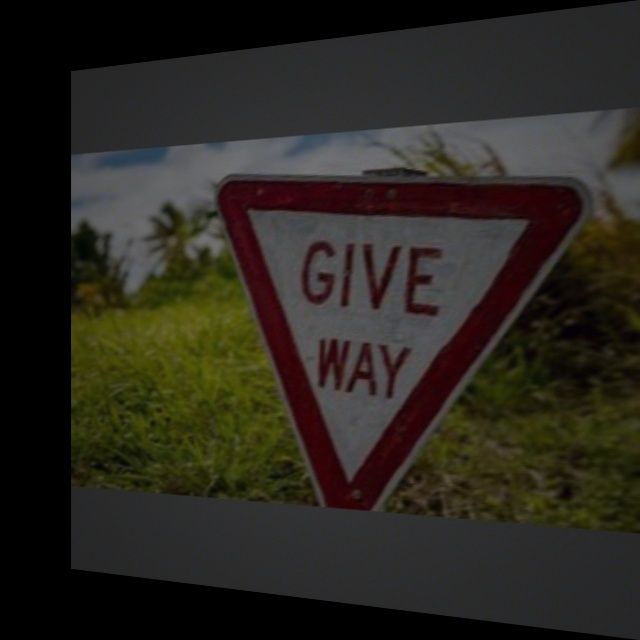Give_Way: (217, 157, 582, 510)
